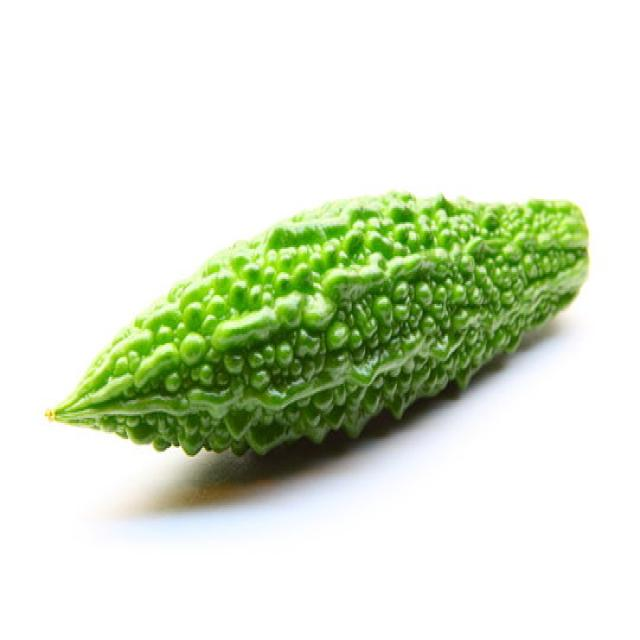Bitter_Gourd: (44, 188, 589, 458)
